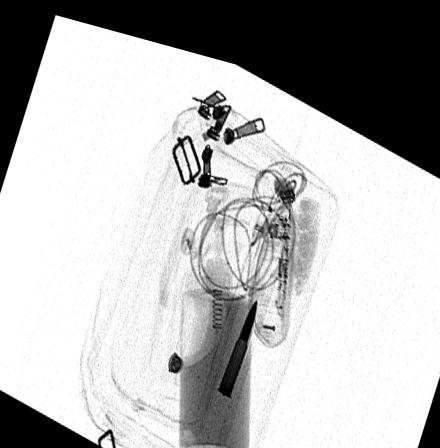Bullet: (215, 281, 258, 388)
